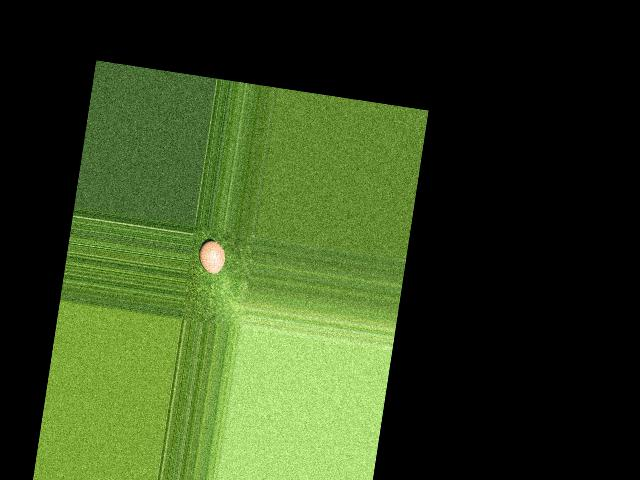egg: (196, 239, 226, 275)
